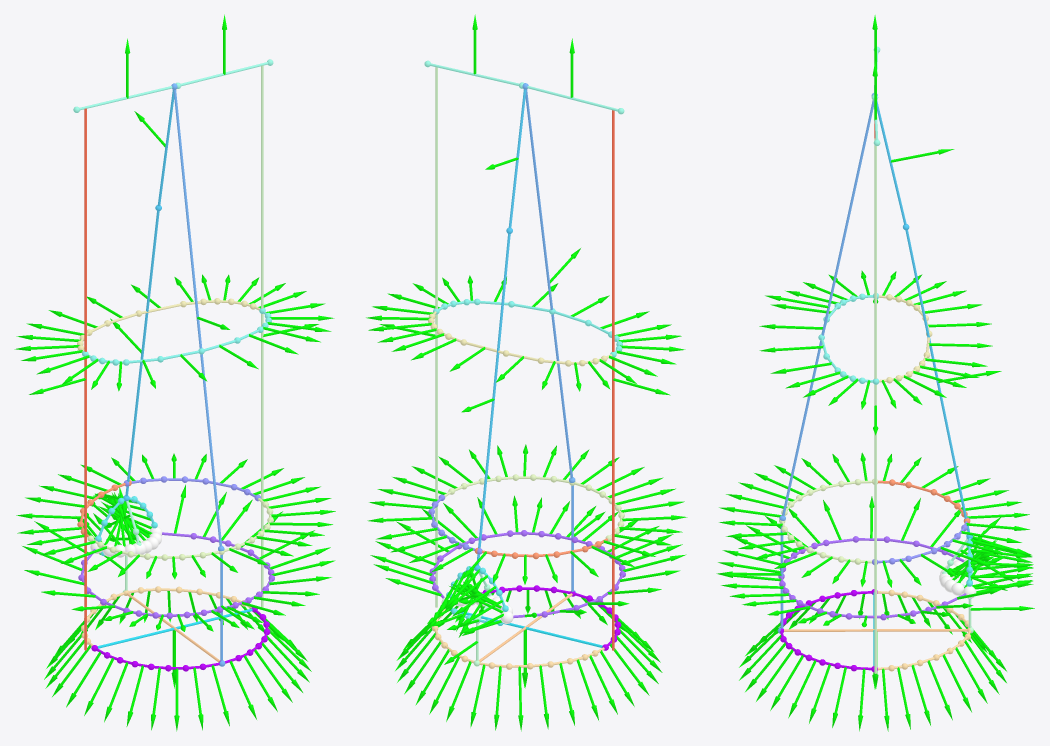
Rendered from t2f_toothpaste.gltf.
3 views of the same model, side by side, from view 1: azimuth 30°, elevation 25°; view 2: azimuth 150°, elevation 25°; view 3: azimuth 270°, elevation 25° (orthographic).
Size of the model in its own units: 0.5056 by 1.1 by 0.486.
